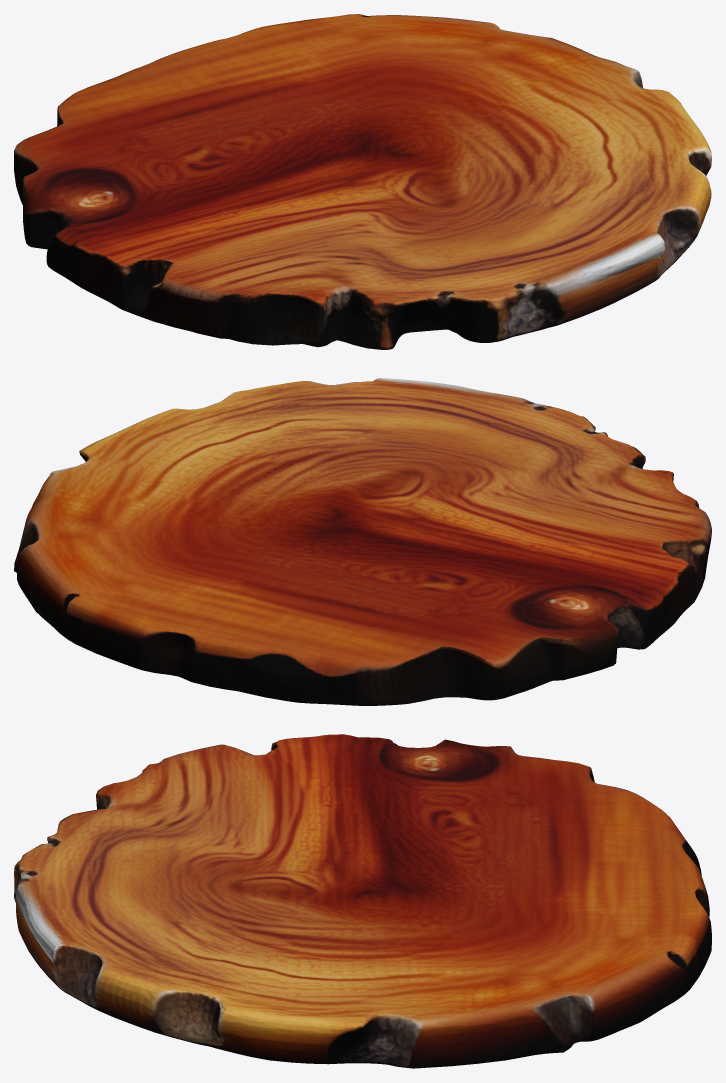
File: wooden-coaster-rustic.jpeg.glb
3 renders of one model, top to bottom at view 1: azimuth 30°, elevation 25°; view 2: azimuth 150°, elevation 25°; view 3: azimuth 270°, elevation 25°, orthographic. The views are drawn at different scales.
Parts seen in each view (by area): view 1: world; view 2: world; view 3: world.
Part boxes in pixels (x1,y1,x2,y2): world: (14,14,711,349); world: (14,378,711,705); world: (14,734,711,1068).
Bounding box in the file's own units: 0.9997 × 0.0782 × 0.993.
Materials: 1 (1 with a texture image).
